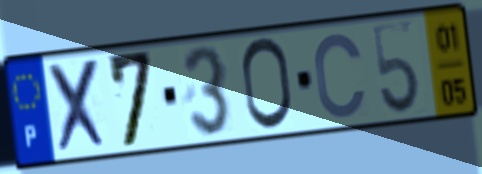3: (179, 42, 235, 141)
5: (369, 17, 424, 119)
7: (104, 48, 156, 152)
C: (311, 30, 370, 122)
O: (238, 35, 296, 134)
X: (45, 55, 112, 158)
